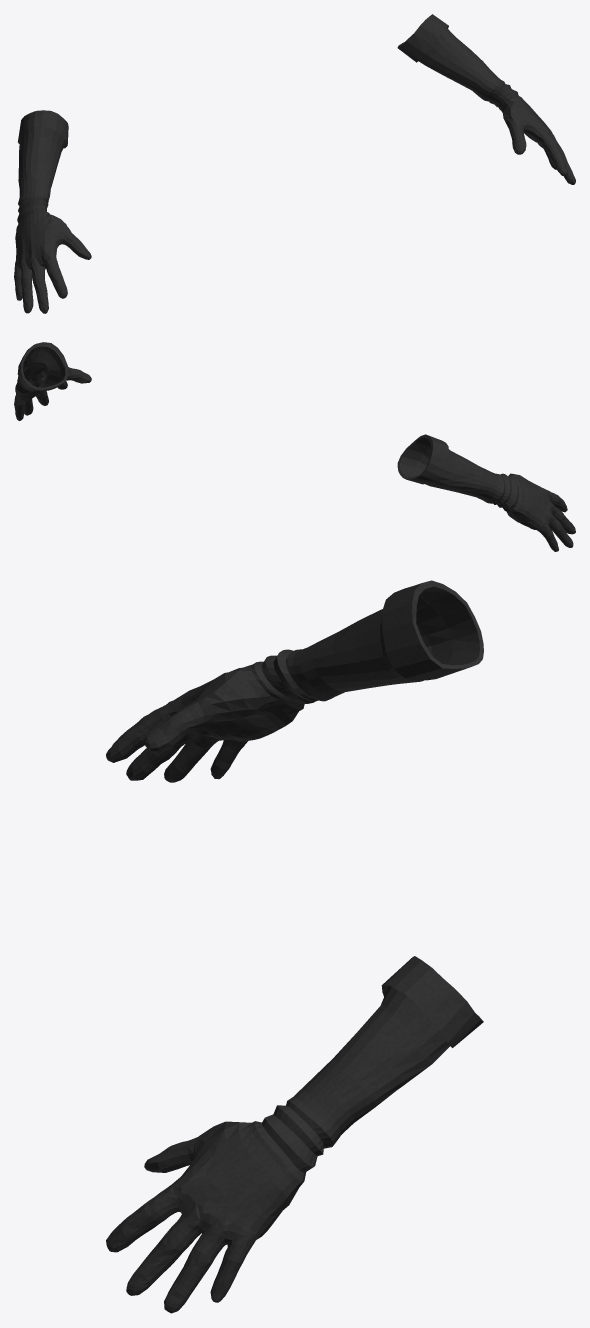
Rendered from mhw_toigo_gloves_medium.glb.
3 views of the same model, one above another, from view 1: azimuth 30°, elevation 25°; view 2: azimuth 150°, elevation 25°; view 3: azimuth 270°, elevation 25° (orthographic). The views are drawn at different scales.
Parts seen in each view (by area): view 1: mhw_toigo_gloves_medium; view 2: mhw_toigo_gloves_medium; view 3: mhw_toigo_gloves_medium.
Part boxes in pixels (bbox=[...]): mhw_toigo_gloves_medium: bbox=[14, 14, 575, 313]; mhw_toigo_gloves_medium: bbox=[14, 342, 575, 551]; mhw_toigo_gloves_medium: bbox=[106, 580, 483, 1313].
Size of the model in its own units: 1.22 by 0.2929 by 0.3642.
1 material, 1 textured.
